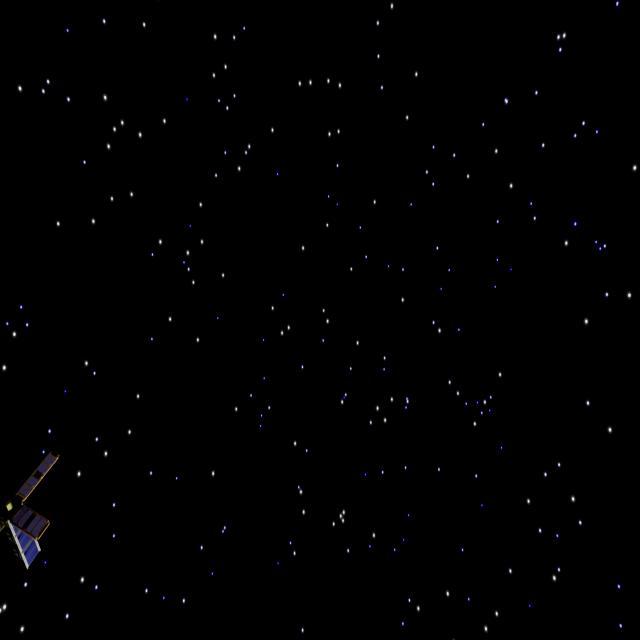medium_debris: (0, 444, 63, 582)
